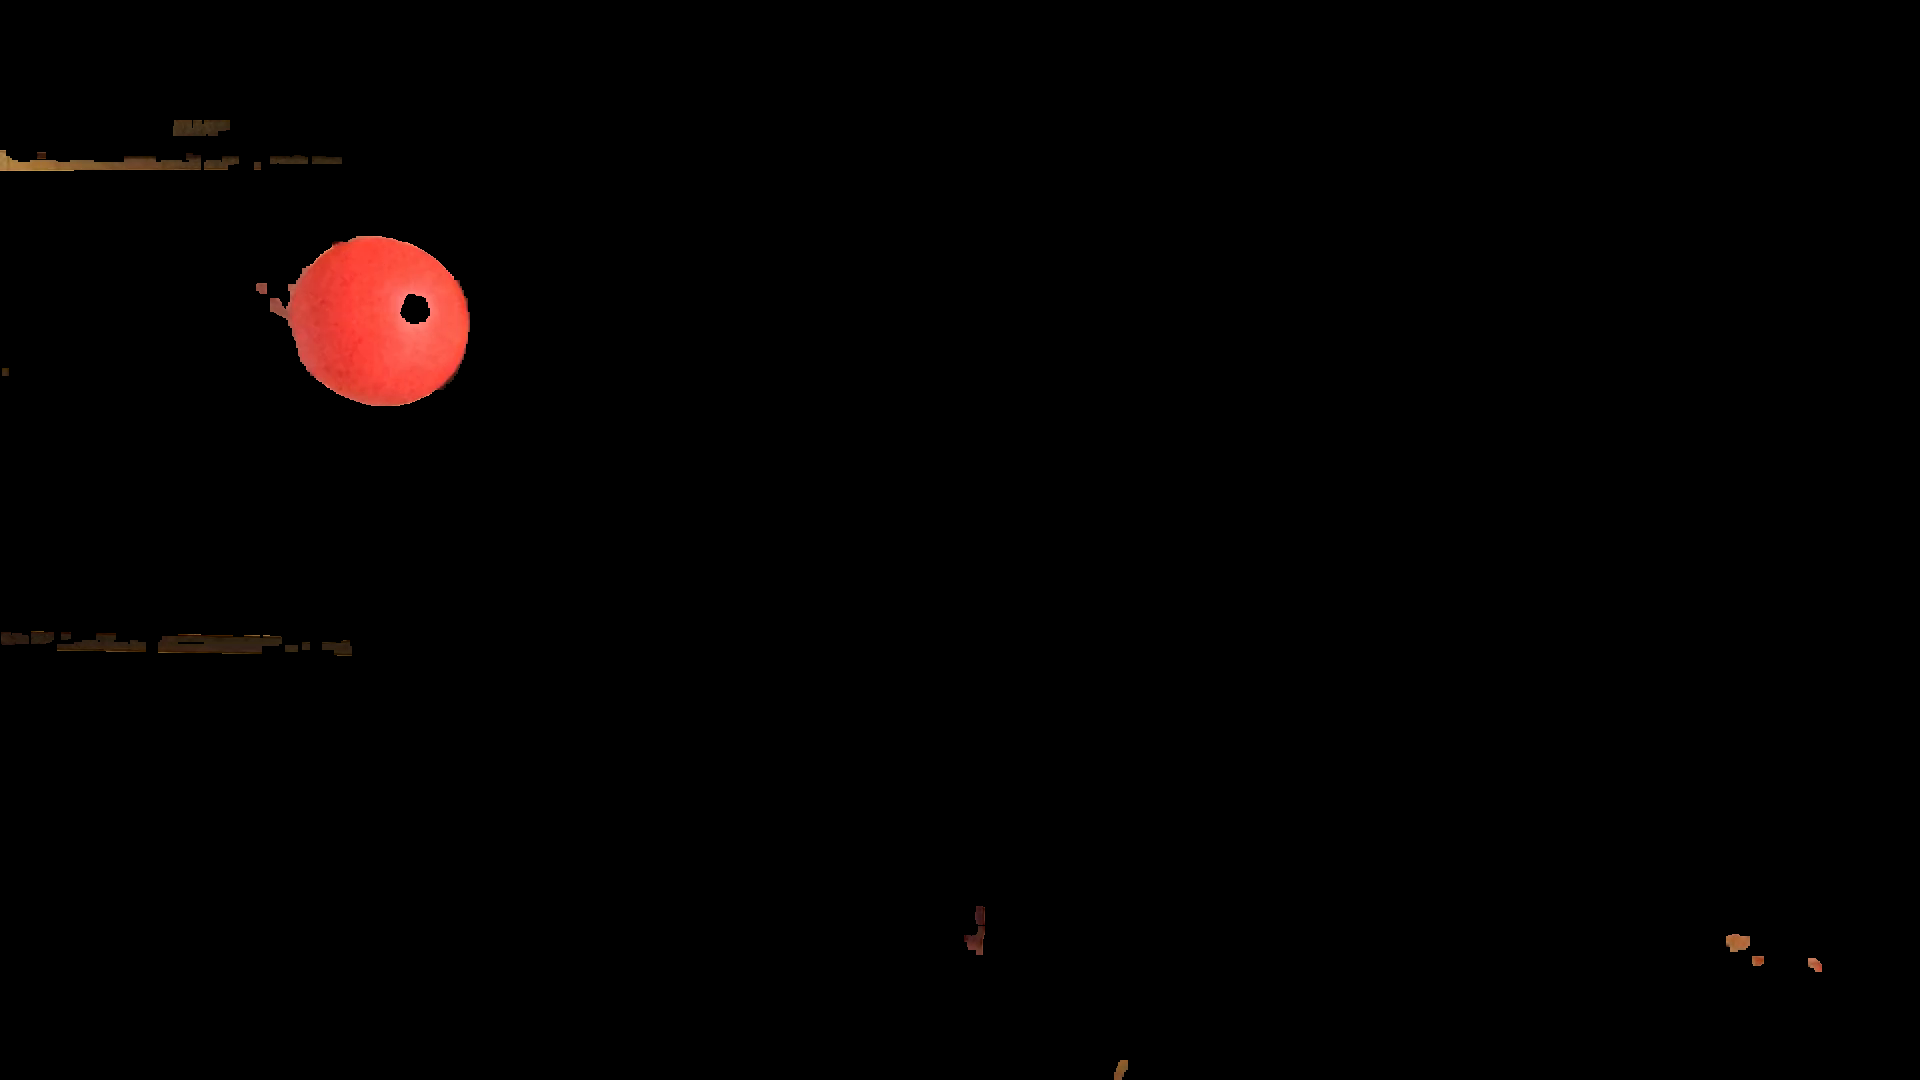Ball: (299, 243, 473, 397)
